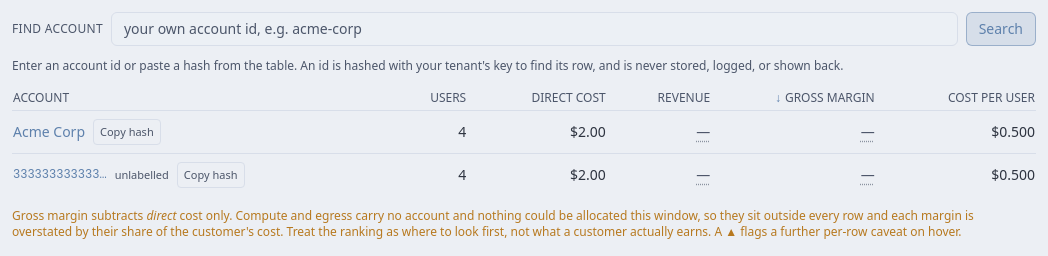
AccountTable › matches a searched account on any of the candidate hashes, not just the first
The width and height of the screenshot is (1048, 256).
Type "acme-corp" into the field labelled "Find account".
click(534, 29); type("acme-corp")  # box [111,12,958,46]
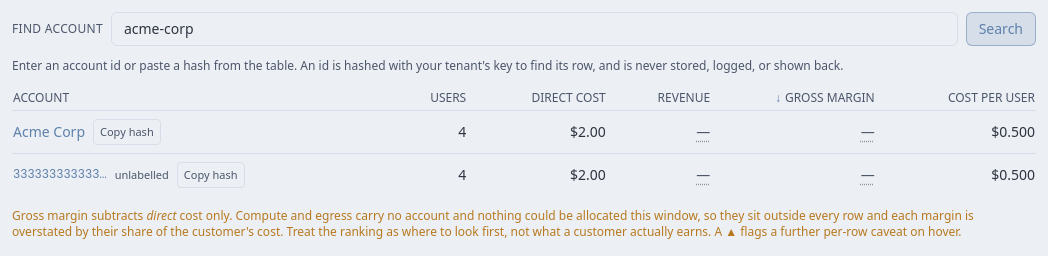
Click the button "Search".
click(1001, 29)  # box [966,12,1036,46]
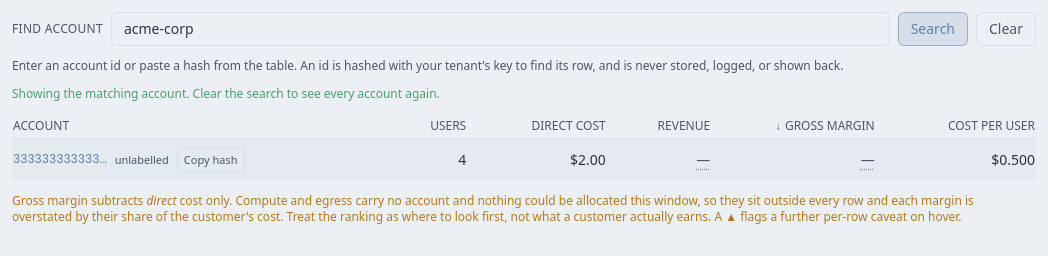
Check: the text "Showing the matching account" is shown, box [12,85,440,102]
Check: the link "Acme Corp" is gone
